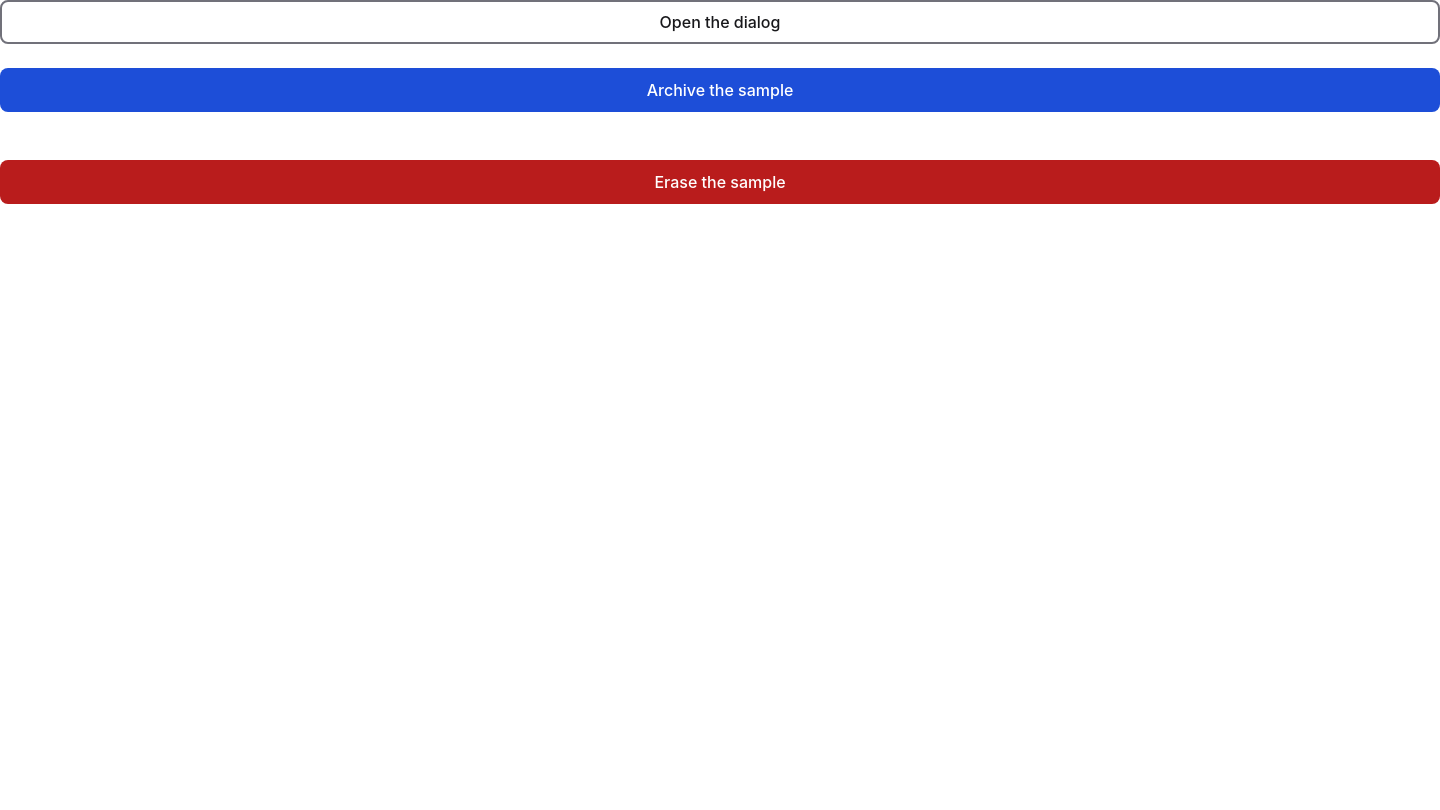
DialogSamples › opens the sample dialog
What coordinates should you click on to do the following:
click the button "Open the dialog"
I would click on:
 (720, 22)
Its box is x1=0 y1=0 x2=1439 y2=44.
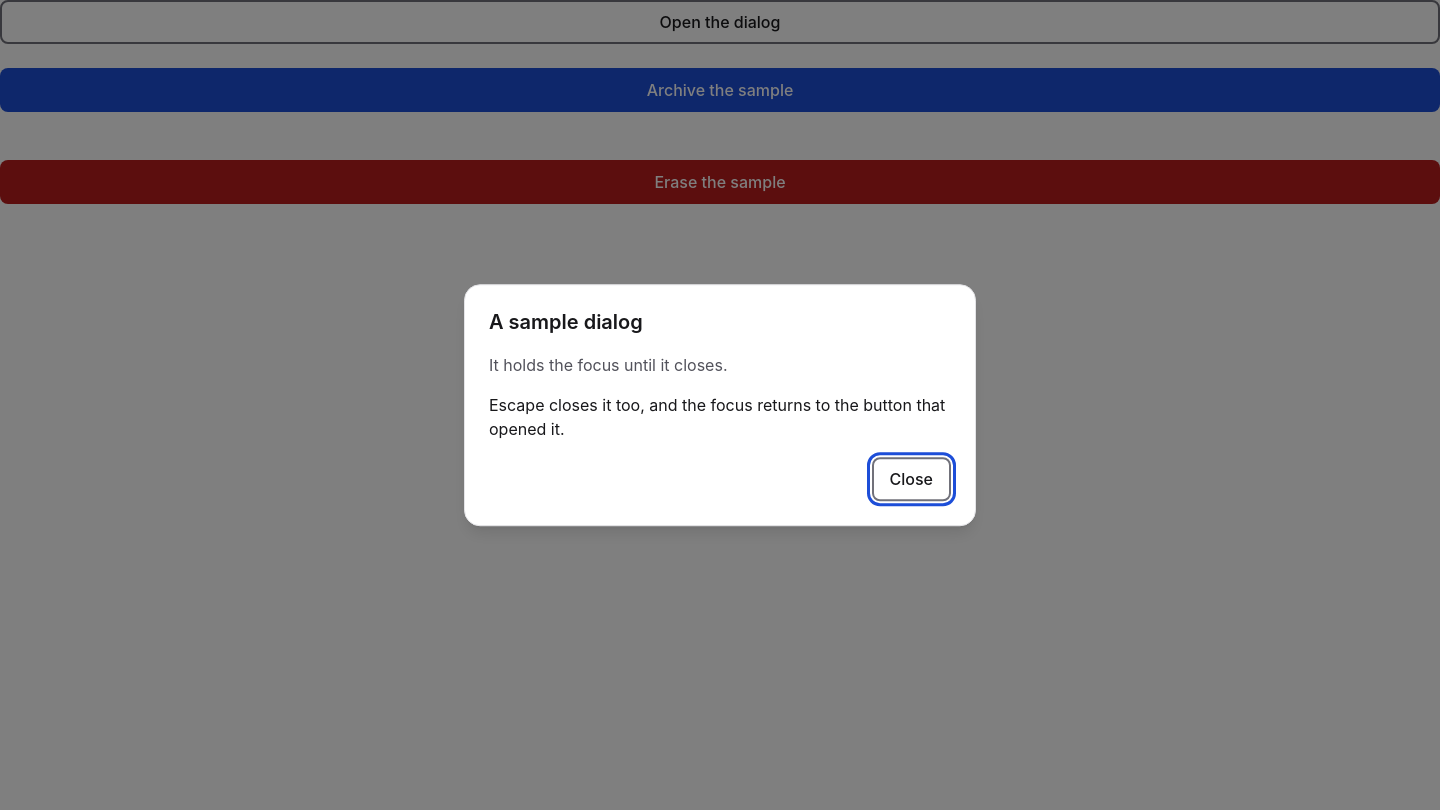
Check: the dialog "A sample dialog" is shown, box x1=464 y1=284 x2=976 y2=526
